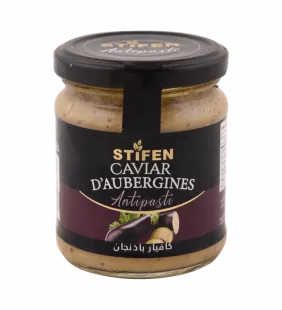Promotion: (44, 20, 236, 284)
